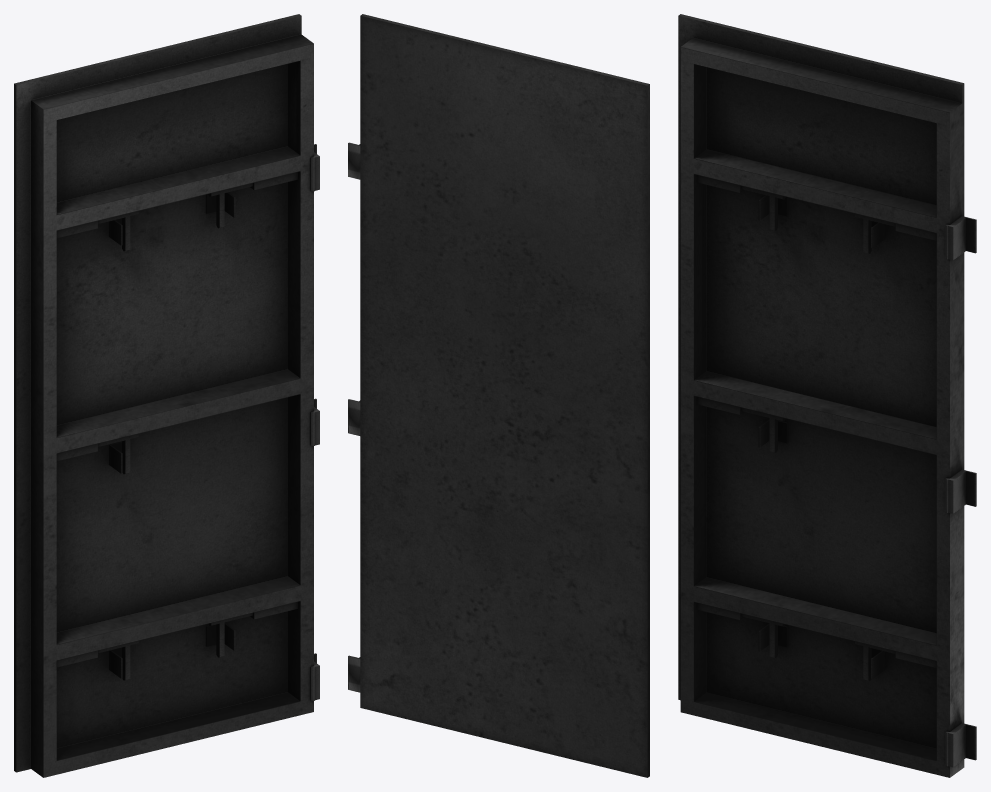
File: door.fbx
3 views of the same model, side by side, from view 1: azimuth 30°, elevation 25°; view 2: azimuth 150°, elevation 25°; view 3: azimuth 330°, elevation 25° (orthographic).
Visible parts, largest first — view 1: Scene_Root; view 2: Scene_Root; view 3: Scene_Root.
Part boxes in pixels (box(x1,y1,x2,y2)): Scene_Root: box(14, 14, 319, 777); Scene_Root: box(348, 14, 649, 777); Scene_Root: box(678, 14, 976, 777).
Bounding box in the file's own units: 11.08 × 24.29 × 1.06.
